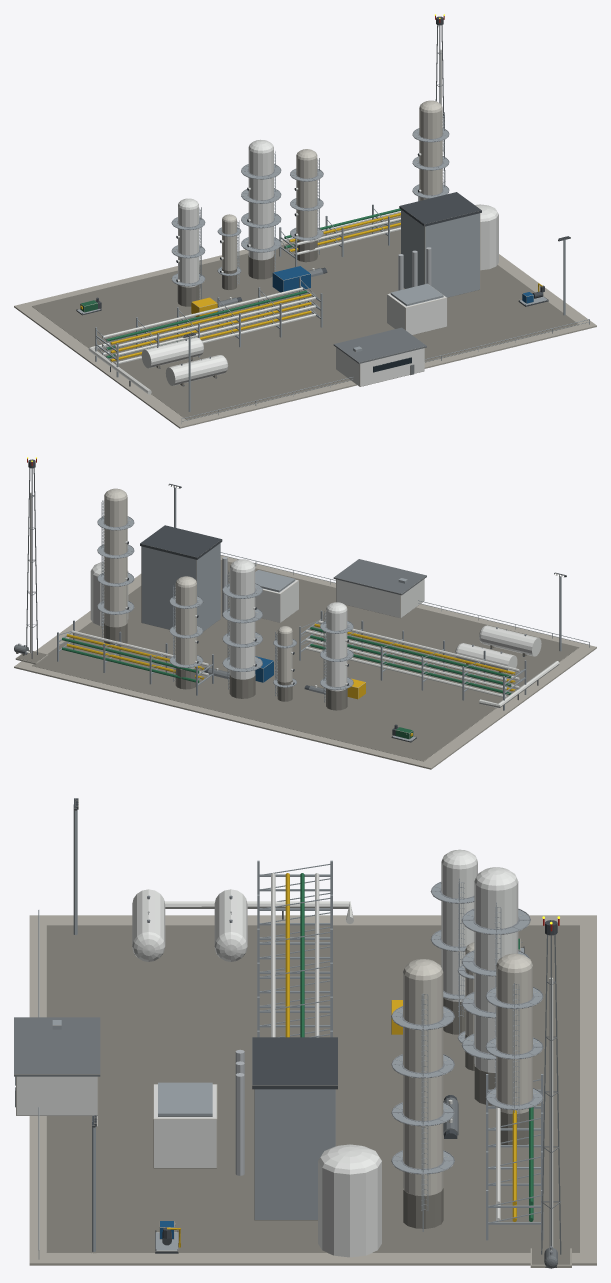
The model's file is mid_gas_plant.glb.
3 renders of one model, top to bottom at view 1: azimuth 30°, elevation 25°; view 2: azimuth 150°, elevation 25°; view 3: azimuth 270°, elevation 25°, orthographic. The views are drawn at different scales.
Visible parts, largest first — view 1: mid_gas_plant; view 2: mid_gas_plant; view 3: mid_gas_plant.
Part boxes in pixels (box(x1,y1,x2,y2)): mid_gas_plant: box(14, 14, 596, 428); mid_gas_plant: box(14, 457, 596, 769); mid_gas_plant: box(14, 798, 596, 1268).
Bounding box in the file's own units: 92.71 × 42.56 × 63.72.
